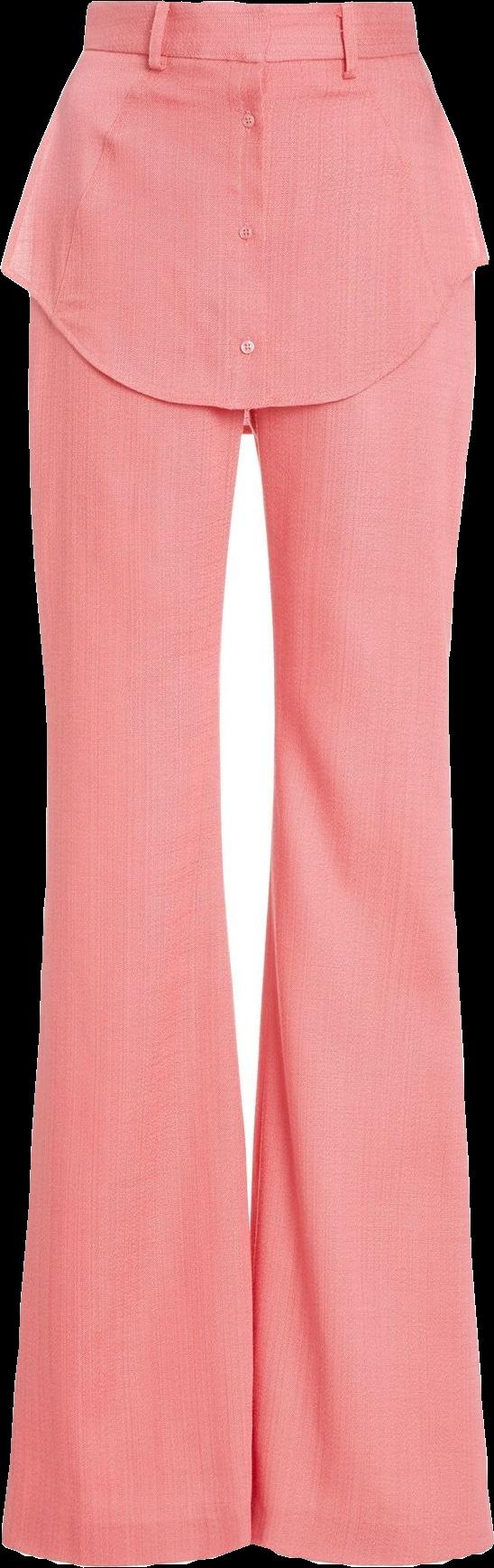Hemline: (0, 244, 492, 424), (0, 1526, 263, 1566), (251, 1526, 493, 1566)
Pantleg: (1, 4, 262, 1563), (247, 4, 493, 1563)
Waistline: (73, 37, 422, 75), (84, 0, 415, 18)
